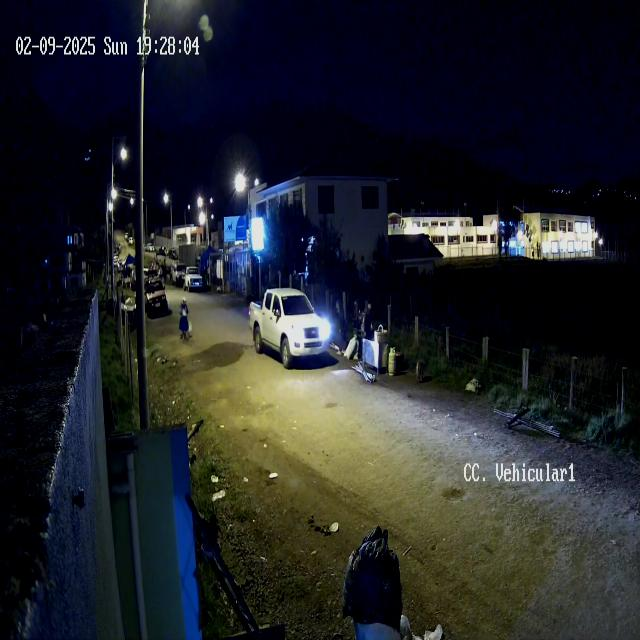CMT: (248, 288, 328, 368)
